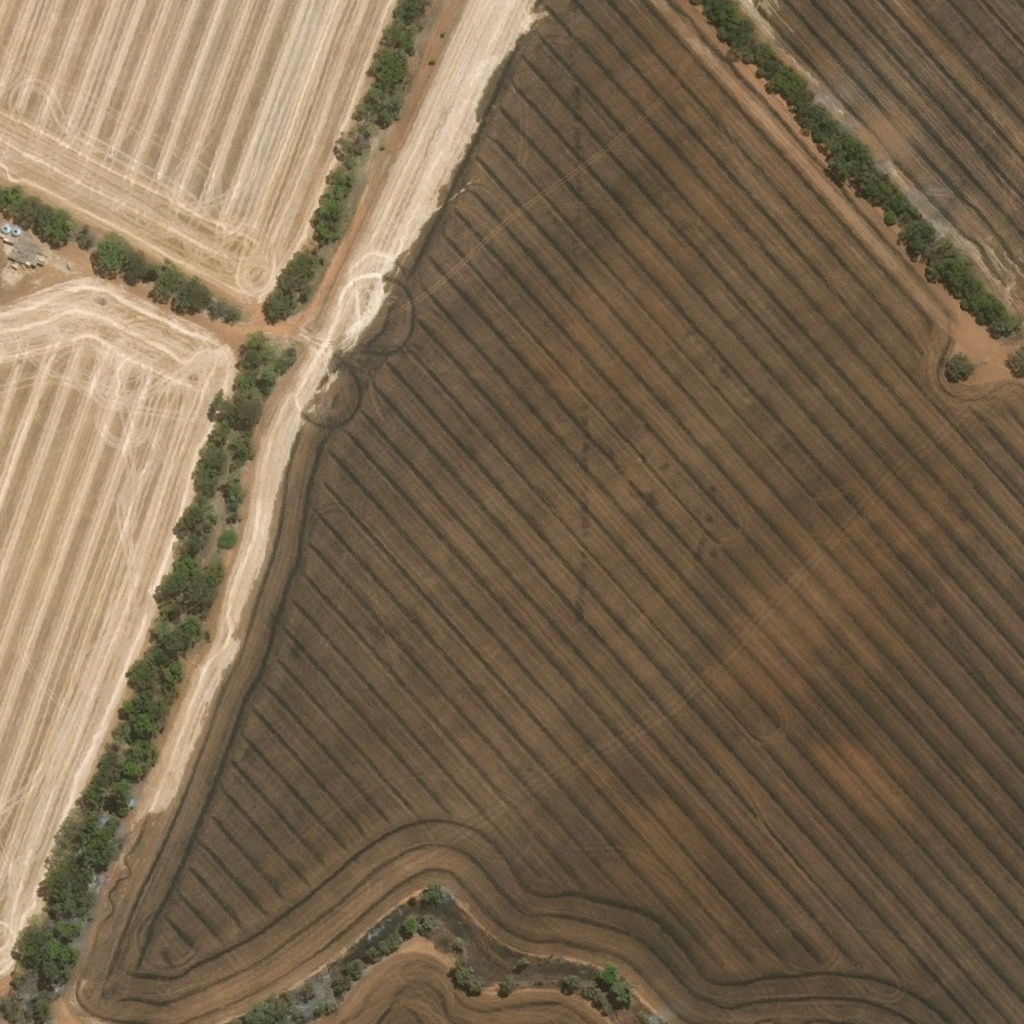0 no-damage: (10, 229, 21, 239), (0, 227, 11, 237)
